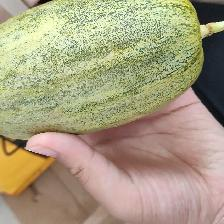gua: (25, 13, 165, 105)
